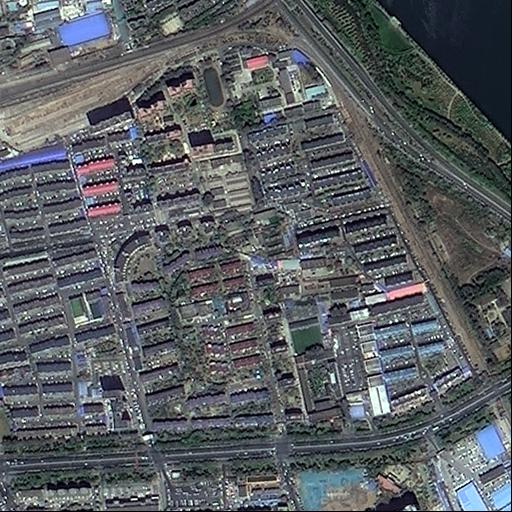school: (282, 306, 347, 437)
